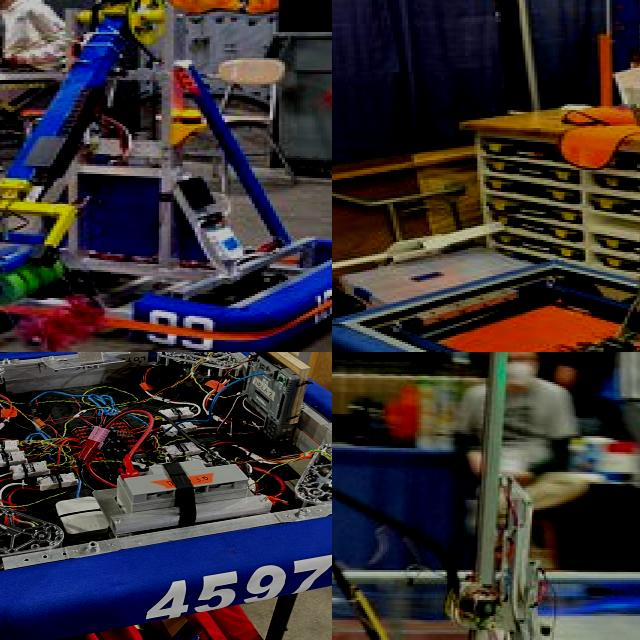FRC-Robots: (0, 0, 332, 352), (0, 352, 332, 640), (332, 352, 593, 640), (332, 238, 640, 352)
